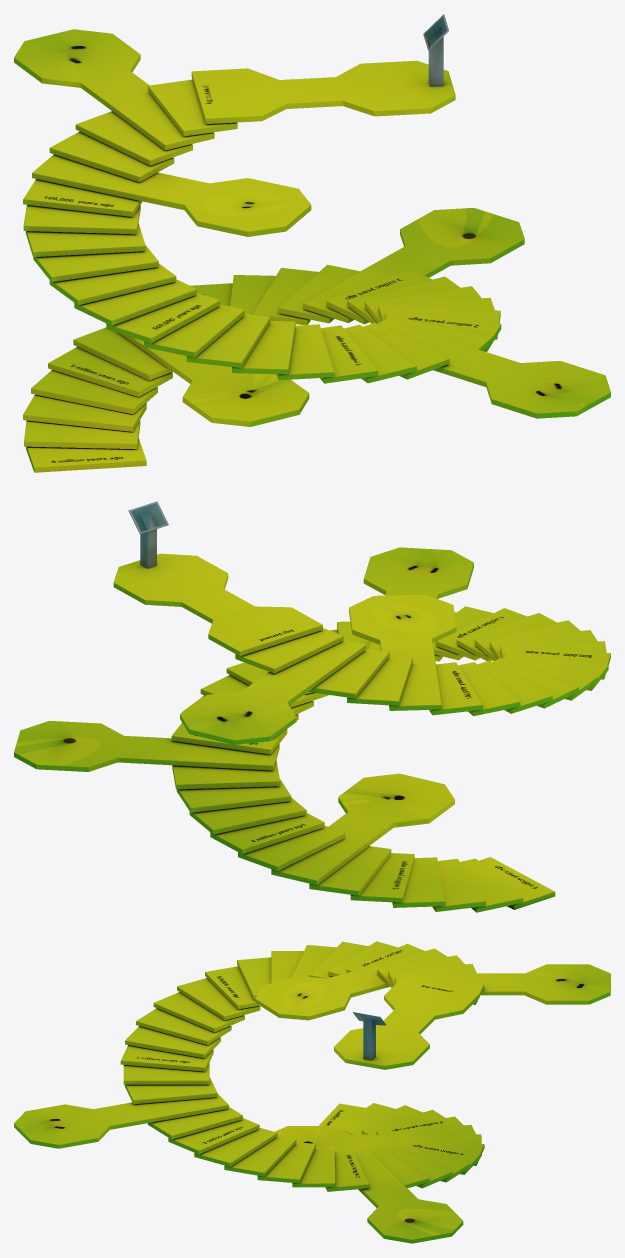
The model's file is stairs.glb.
3 views of the same model, one above another, from view 1: azimuth 30°, elevation 25°; view 2: azimuth 150°, elevation 25°; view 3: azimuth 270°, elevation 25° (orthographic). The views are drawn at different scales.
Parts seen in each view (by area): view 1: Spiral Staircase.baked; view 2: Spiral Staircase.baked; view 3: Spiral Staircase.baked.
Boxes of the visible parts, x1=… form: Spiral Staircase.baked: x1=14, y1=14, x2=610, y2=472; Spiral Staircase.baked: x1=14, y1=501, x2=610, y2=912; Spiral Staircase.baked: x1=14, y1=941, x2=610, y2=1243.
Size of the model in its own units: 10.93 by 6.46 by 13.88.
1 material, 1 textured.
